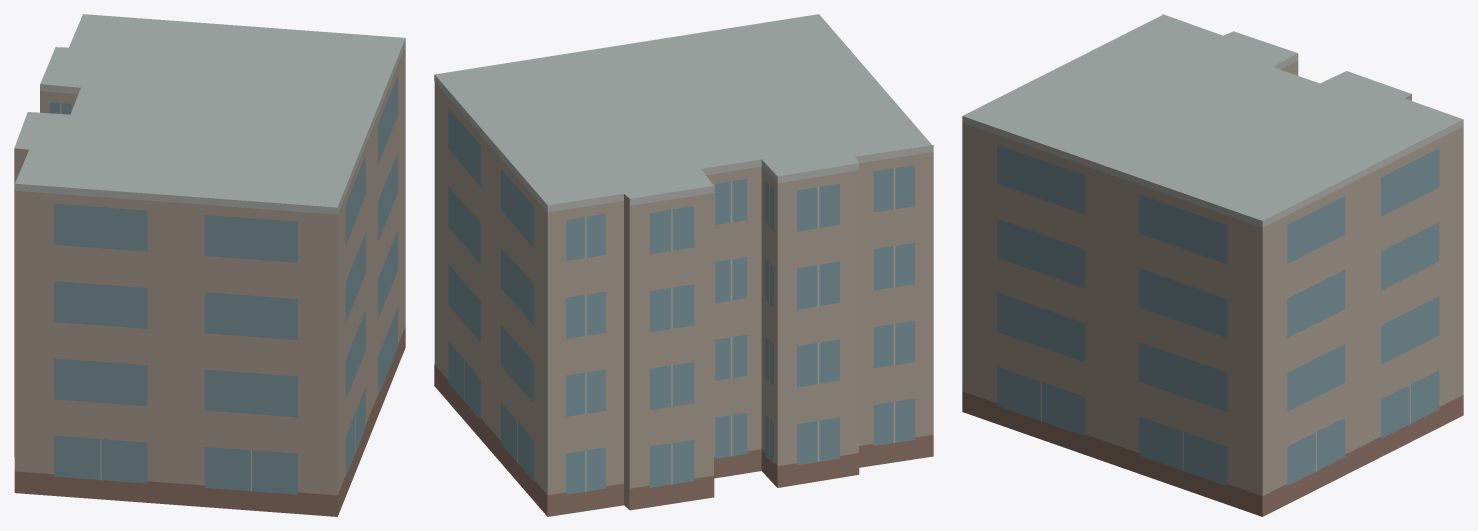
Rendered from survey-upis-33040581.glb.
The picture shows the model from 3 angles, left to right: view 1: azimuth 30°, elevation 25°; view 2: azimuth 150°, elevation 25°; view 3: azimuth 270°, elevation 25°; orthographic projection. The views are drawn at different scales.
Parts seen in each view (by area): view 1: survey-upis-33040581.tmp; view 2: survey-upis-33040581.tmp; view 3: survey-upis-33040581.tmp.
Boxes of the visible parts, bbox=[...] form: survey-upis-33040581.tmp: bbox=[14, 14, 405, 516]; survey-upis-33040581.tmp: bbox=[434, 14, 933, 516]; survey-upis-33040581.tmp: bbox=[962, 14, 1463, 516].
Size of the model in its own units: 16.06 by 10.7 by 16.44.
